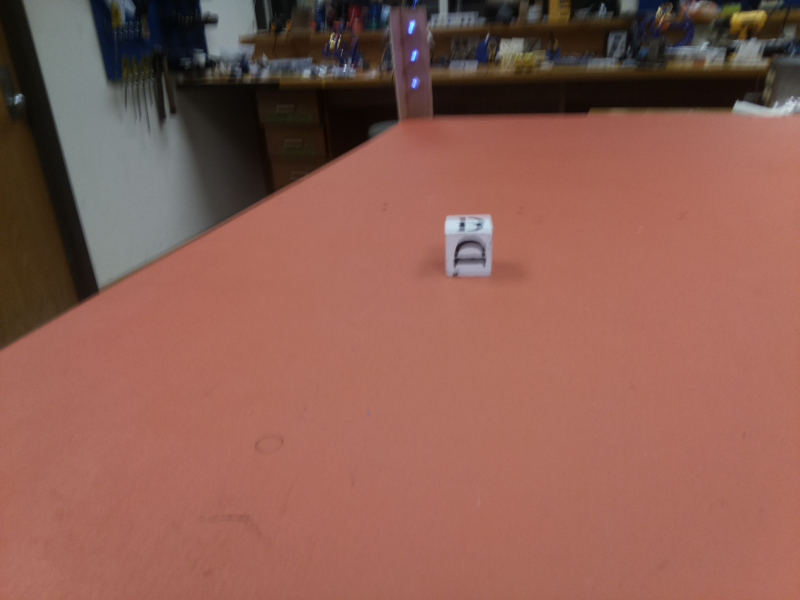blockD: (442, 213, 492, 276)
corner: (387, 9, 439, 122)
